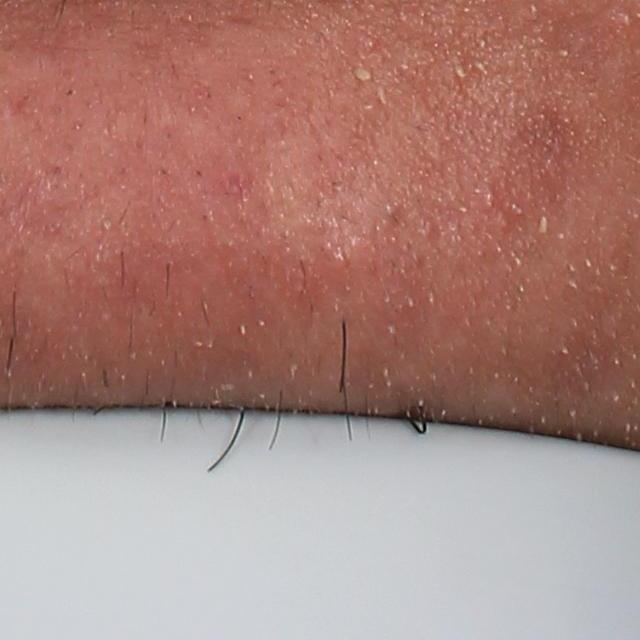other: (351, 65, 374, 84)
